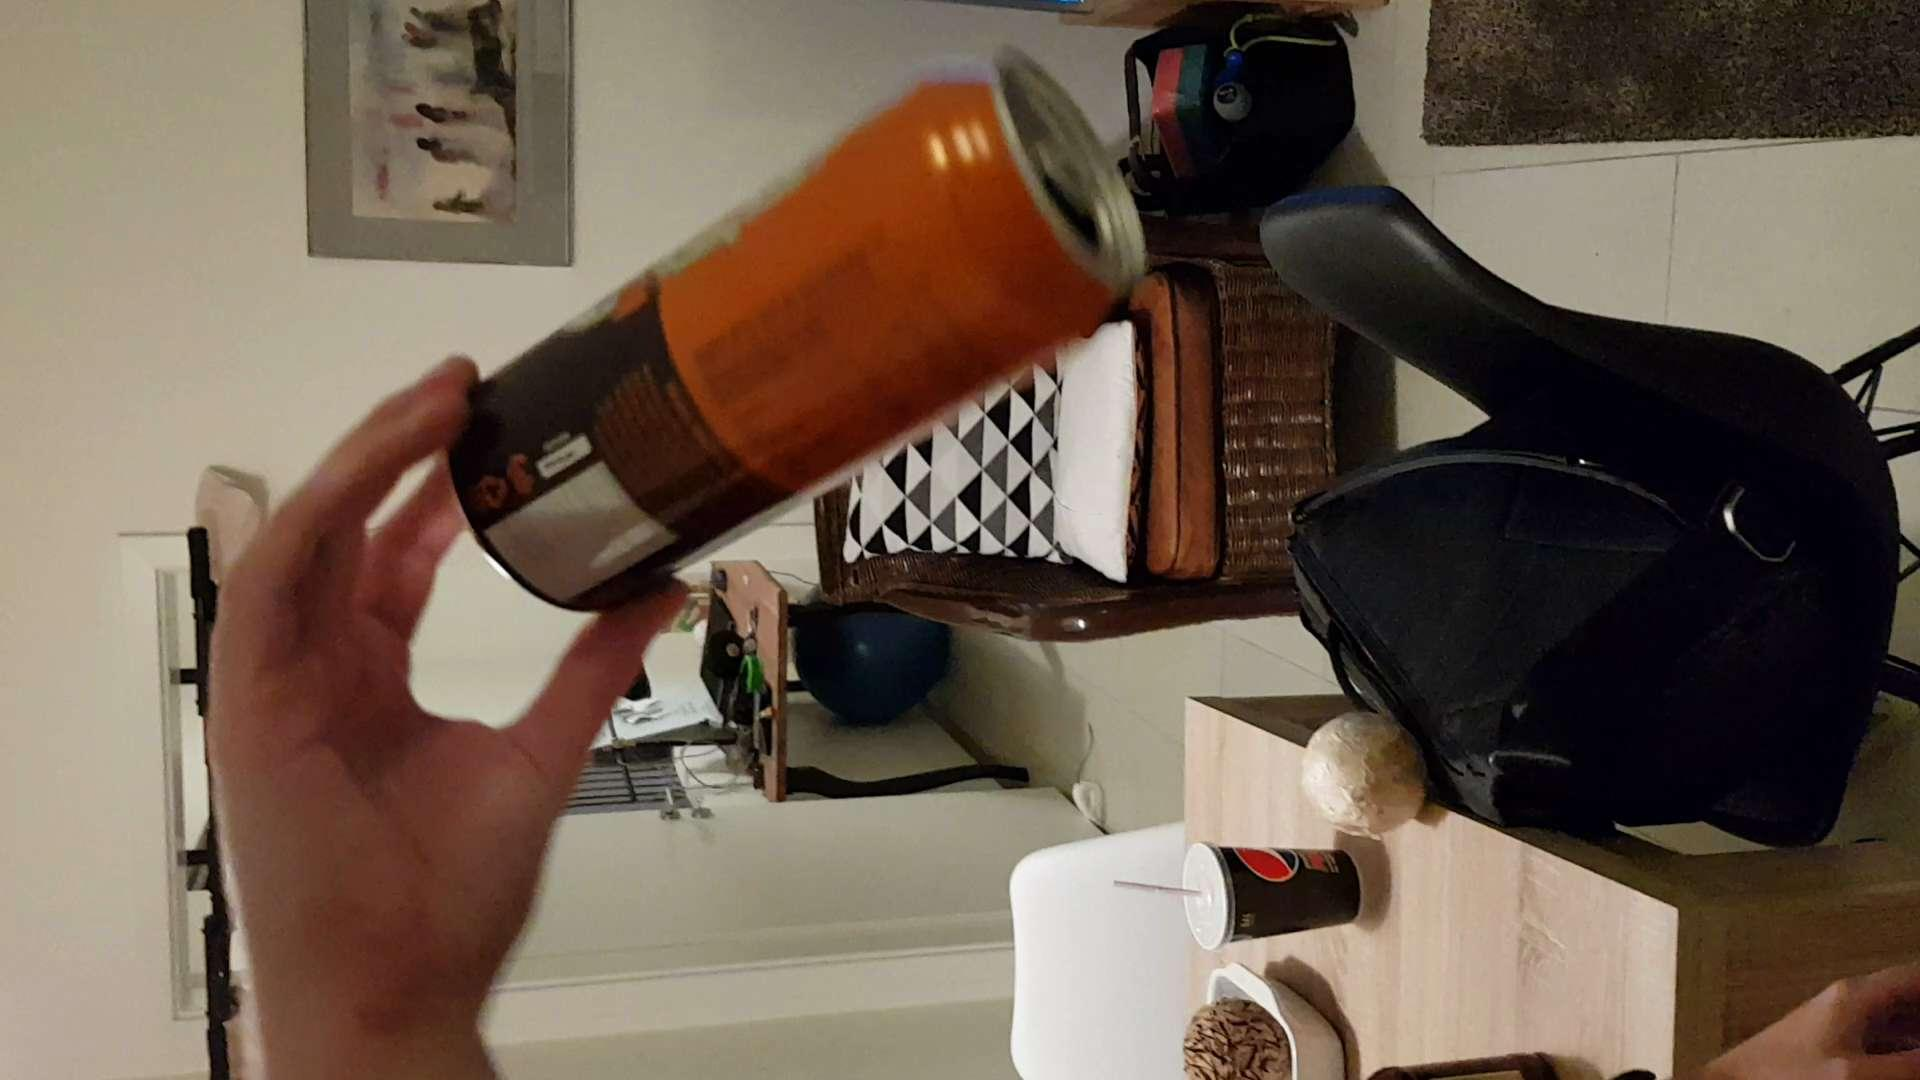Can: (444, 40, 1151, 622)
